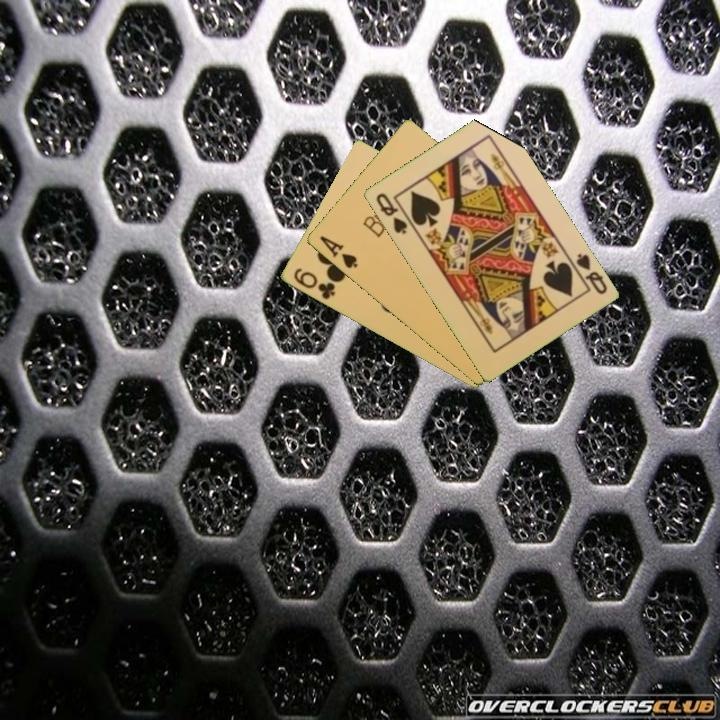6c: (290, 264, 338, 303)
As: (316, 232, 361, 272)
Qs: (566, 250, 610, 297), (372, 189, 410, 238)
